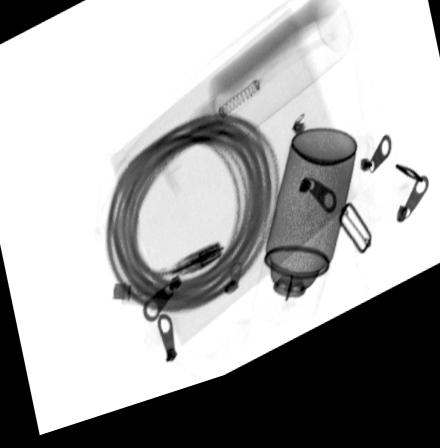Sprayer: (248, 143, 358, 346)
